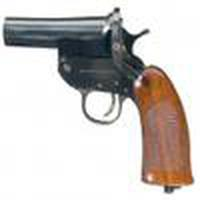gun: (1, 12, 200, 192)
